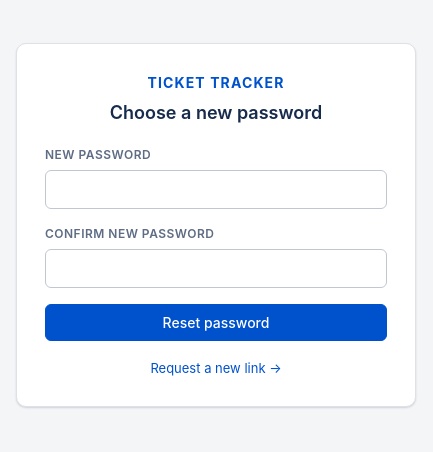
Test: ResetPasswordPage › blocks submit when confirm does not match
Type "a valid password" into the password field labelled "New password" at [216, 189], box [45,170,387,209]
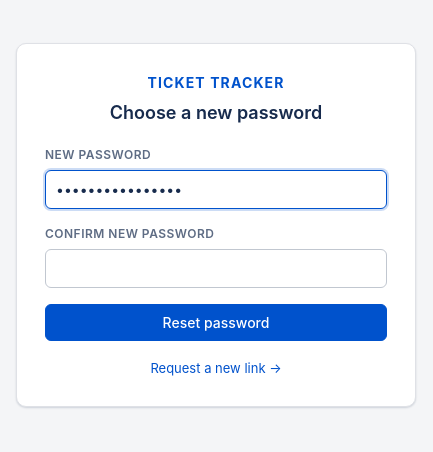
Type "a different password" into the password field labelled "Confirm new password" at [216, 268], box [45,249,387,288]
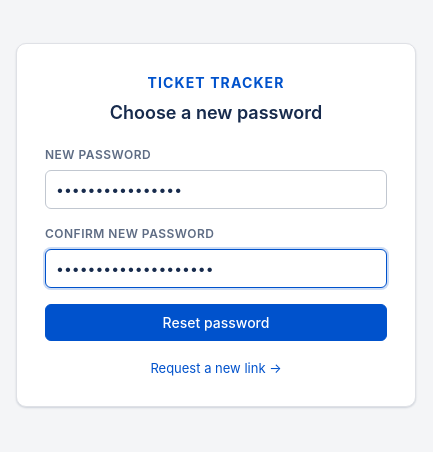
Click the button "Reset password" at [216, 322], box [45,304,387,341]
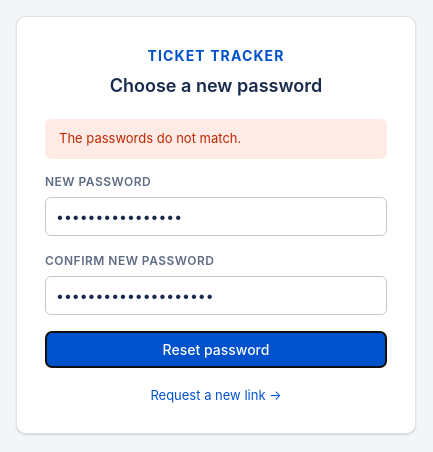
Check: the text "The passwords do not match." is shown, box [45,119,387,158]
